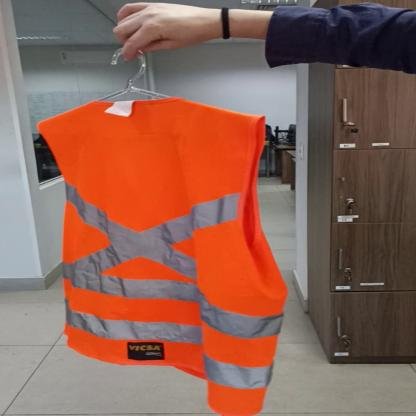colete: (32, 95, 288, 415)
